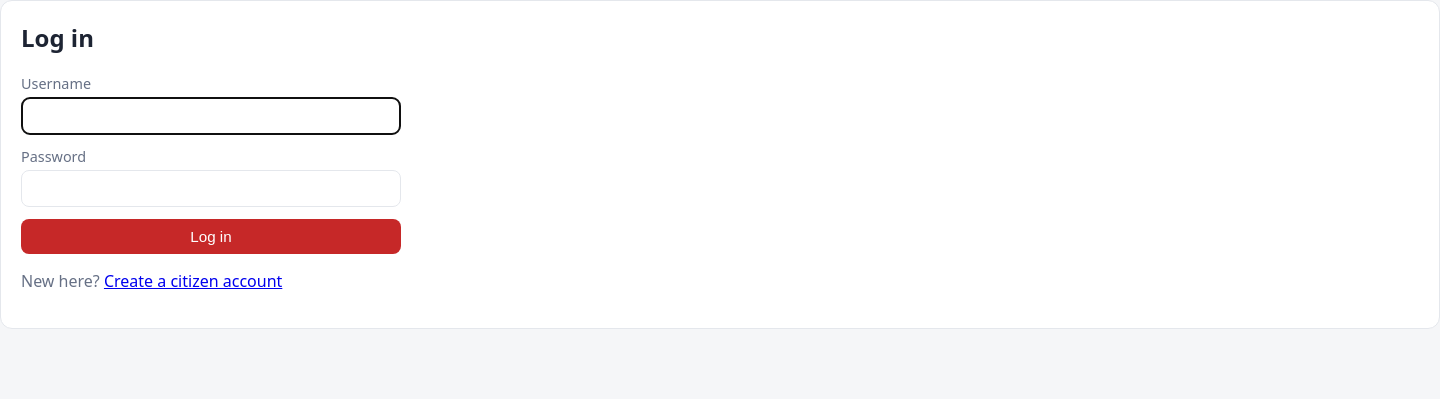
Test: Login page › says so when the server cannot be reached
Type "ravi" into the field labelled "Username" at (211, 116), box [21, 97, 401, 134]
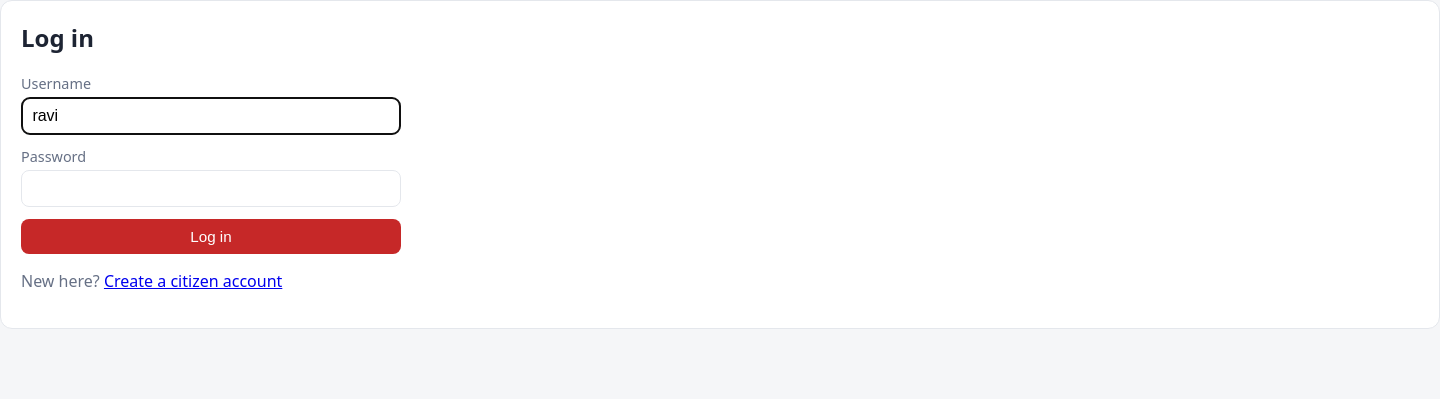
Type "Secret-1" into the password field labelled "Password" at (211, 188), box [21, 170, 401, 207]
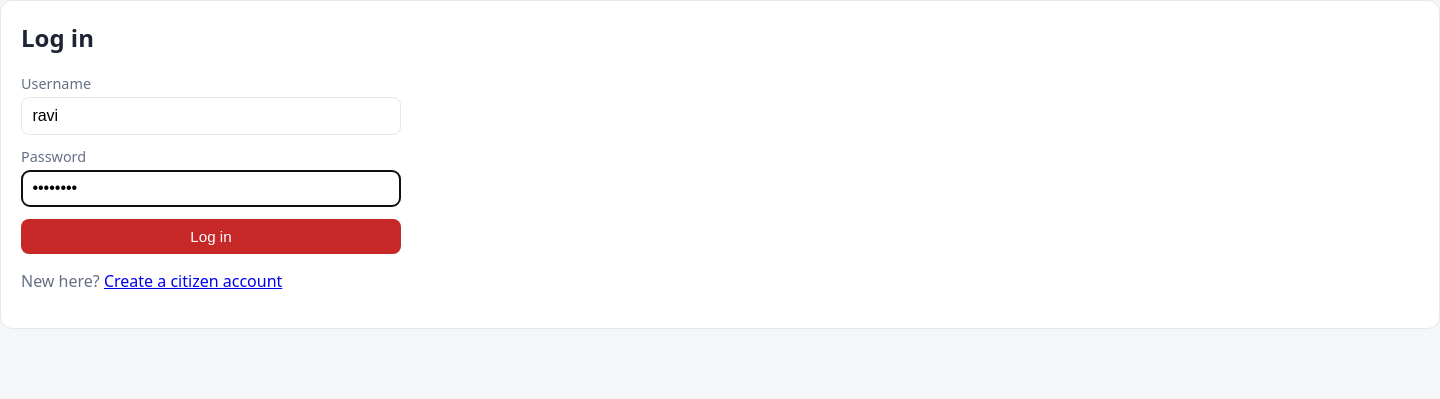
Click the button "Log in" at (211, 236), box [21, 219, 401, 254]
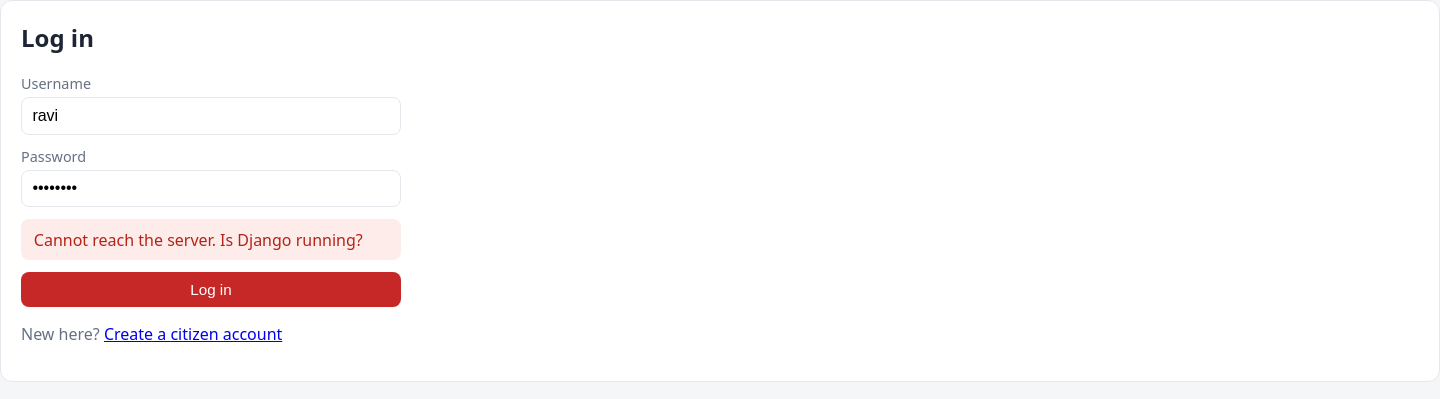
Result: the text "Cannot reach the server. Is Django running?" is shown at [21, 219, 401, 260]
